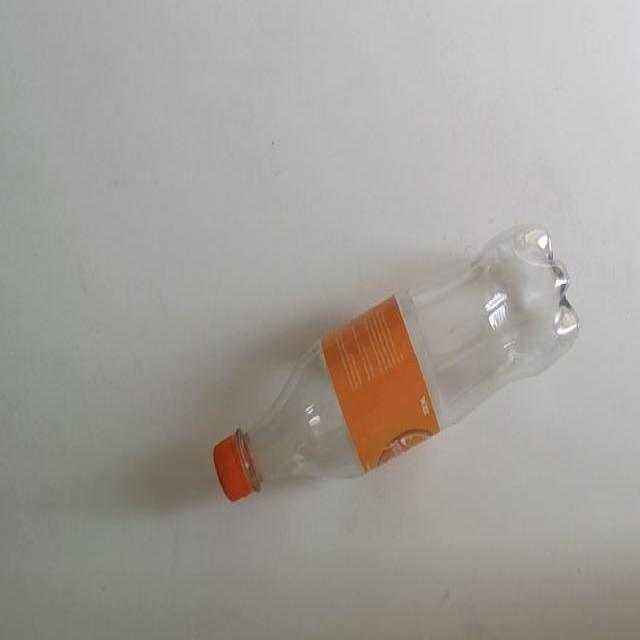non-defect: (212, 223, 582, 504)
